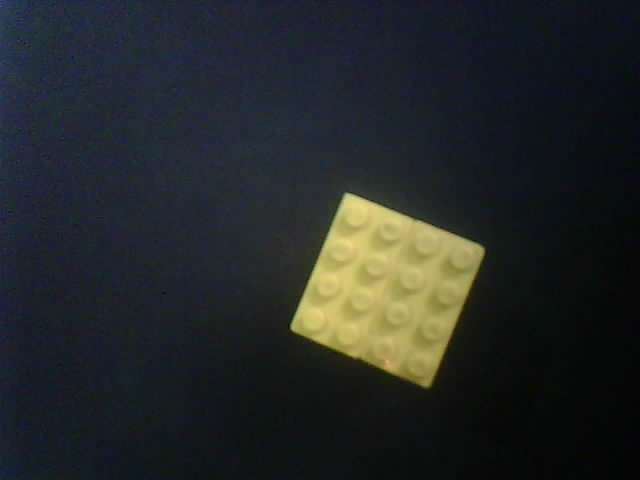lego: (288, 190, 487, 392)
